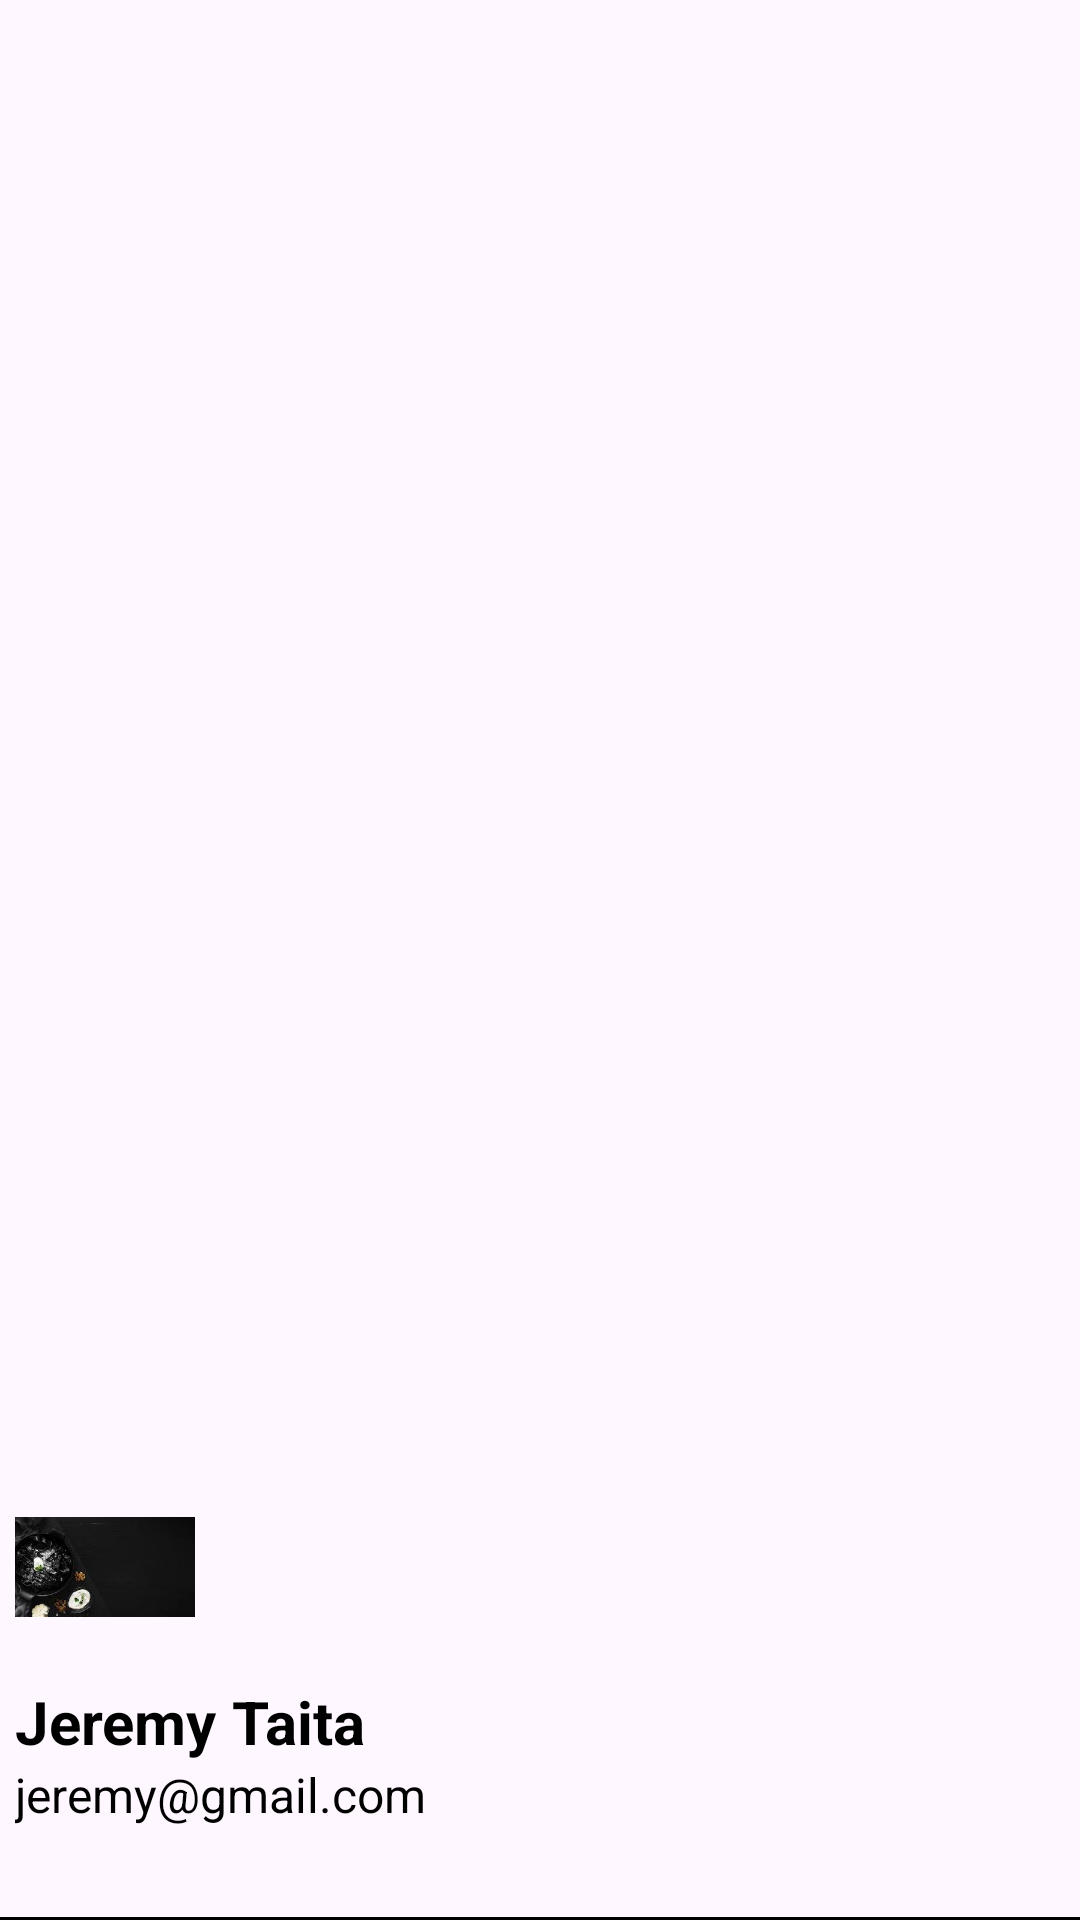

Icon click points for this 1080px x 1920px phone screenshot, format (x=x, y=y):
flipfood: (x=105, y=1567)
